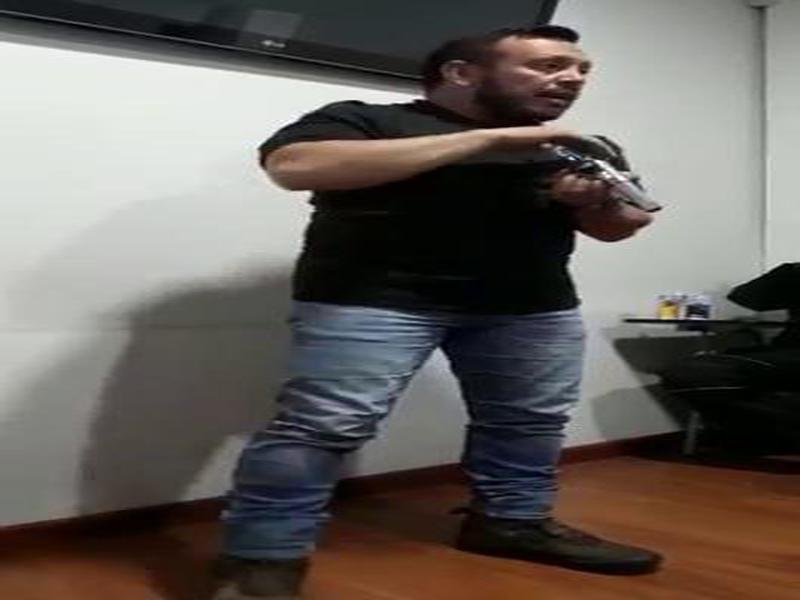Revolver: (548, 140, 677, 239)
